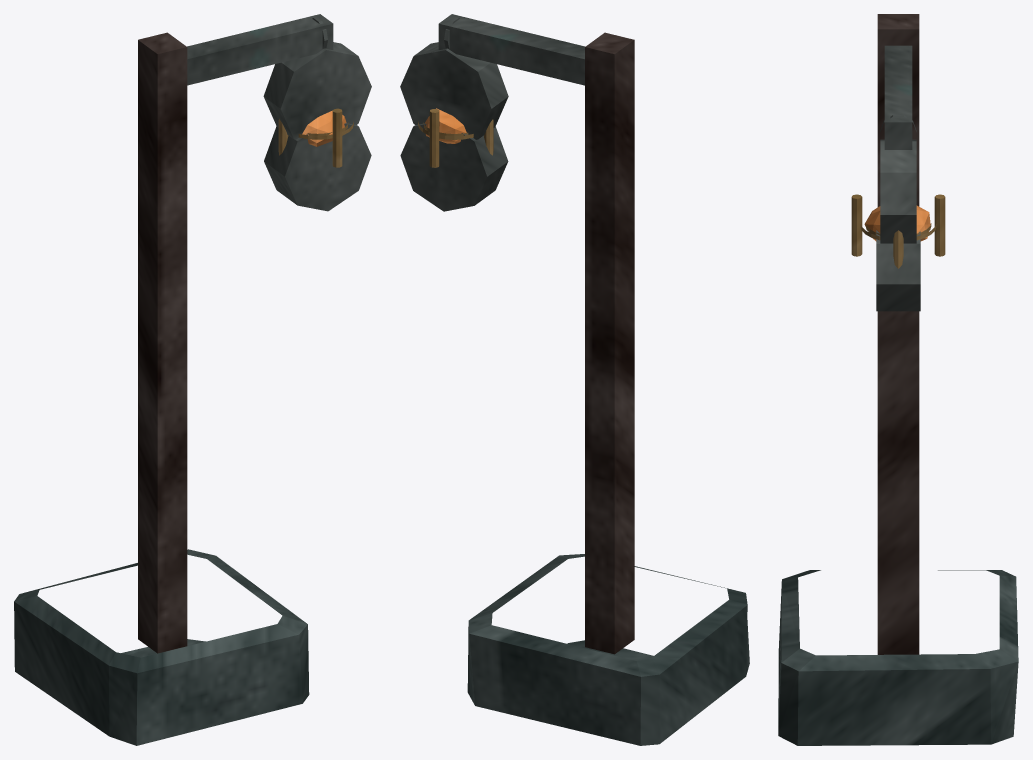
File: 0718_lantern_post_18.glb
3 renders of one model, left to right at view 1: azimuth 30°, elevation 25°; view 2: azimuth 150°, elevation 25°; view 3: azimuth 270°, elevation 25°, orthographic. The views are drawn at different scales.
Parts seen in each view (by area): view 1: wood_dark, stone_dark, iron, brass, amber; view 2: wood_dark, stone_dark, iron, brass, amber; view 3: stone_dark, wood_dark, iron, brass, amber.
Boxes of the visible parts, left/top/right/bottom form: wood_dark: left=138, top=32, right=187, bottom=653; stone_dark: left=14, top=549, right=309, bottom=745; iron: left=187, top=14, right=371, bottom=211; brass: left=278, top=108, right=353, bottom=167; amber: left=302, top=110, right=346, bottom=146; wood_dark: left=585, top=32, right=634, bottom=654; stone_dark: left=467, top=554, right=749, bottom=745; iron: left=400, top=14, right=584, bottom=211; brass: left=418, top=109, right=493, bottom=167; amber: left=425, top=108, right=466, bottom=143; stone_dark: left=778, top=570, right=1018, bottom=745; wood_dark: left=877, top=14, right=919, bottom=654; iron: left=876, top=45, right=920, bottom=311; brass: left=851, top=194, right=945, bottom=268; amber: left=864, top=205, right=930, bottom=241.
Bounding box in the file's own units: 1.31 × 2.71 × 0.8669.
Materials: 5 (5 with a texture image).
